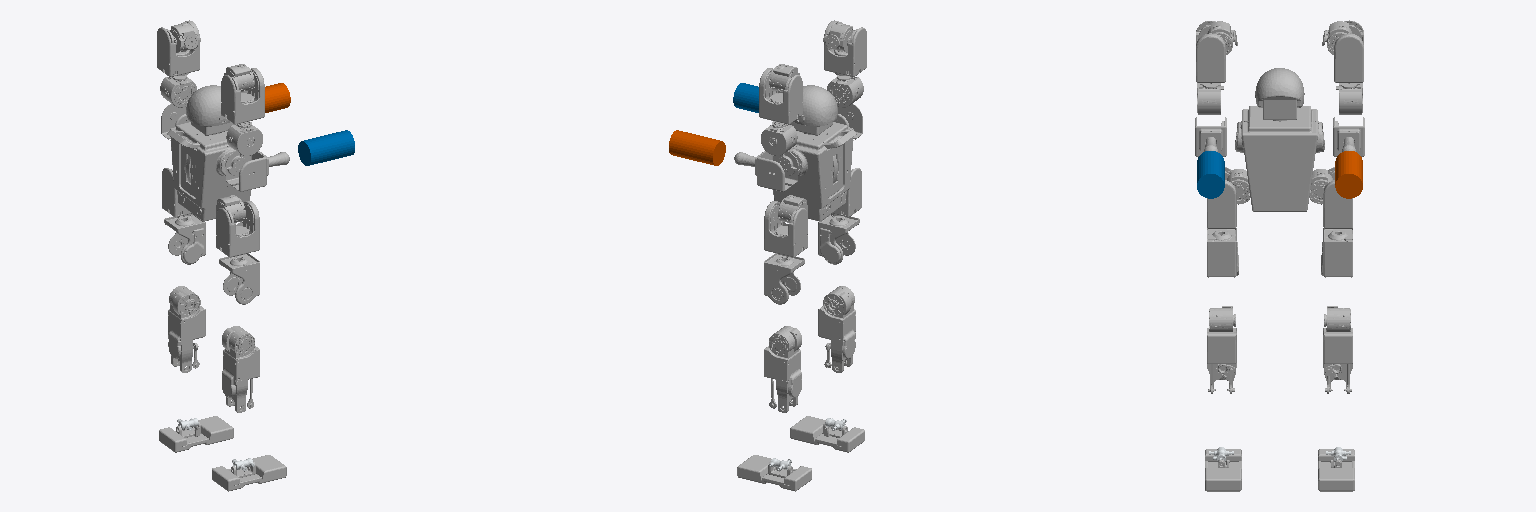
--- What the picture shows (computed from the rendered views, not written in the file) ---
The picture shows the robot from 3 angles, left to right: view 1: azimuth 30°, elevation 25°; view 2: azimuth 150°, elevation 25°; view 3: azimuth 270°, elevation 25°; orthographic projection.
Robot: lus2 — 29 links, 28 joints (21 revolute, 7 fixed); root link pelvis; default pose: all joints at 0.
Links seen in each view (by area): view 1: torso_link, right_knee_link, left_knee_link, right_hip_roll_link, right_shoulder_roll_link, right_elbow_link, left_ankle_roll_link, right_ankle_roll_link, right_hip_yaw_link, left_hip_yaw_link, left_shoulder_roll_link, right_wrist_roll_link (+6 smaller); view 2: torso_link, left_knee_link, right_knee_link, left_hip_roll_link, left_shoulder_roll_link, left_elbow_link, right_ankle_roll_link, left_ankle_roll_link, left_hip_yaw_link, right_hip_yaw_link, right_shoulder_roll_link, left_wrist_roll_link (+6 smaller); view 3: torso_link, left_knee_link, right_knee_link, left_shoulder_roll_link, right_shoulder_roll_link, right_hip_yaw_link, left_hip_yaw_link, right_ankle_roll_link, left_ankle_roll_link, left_wrist_roll_link, right_wrist_roll_link, left_hip_roll_link (+5 smaller).
Boxes of the visible links, x1,y1,x2,y2 form: torso_link: [167, 85, 250, 221]; right_knee_link: [222, 326, 259, 412]; left_knee_link: [168, 286, 205, 372]; right_hip_roll_link: [216, 201, 259, 257]; right_shoulder_roll_link: [221, 68, 264, 124]; right_elbow_link: [226, 151, 289, 191]; left_ankle_roll_link: [159, 416, 233, 452]; right_ankle_roll_link: [212, 455, 286, 491]; right_hip_yaw_link: [219, 253, 259, 304]; left_hip_yaw_link: [164, 214, 205, 264]; left_shoulder_roll_link: [157, 20, 199, 76]; right_wrist_roll_link: [298, 130, 354, 165]; torso_link: [773, 85, 856, 221]; left_knee_link: [764, 326, 801, 412]; right_knee_link: [818, 286, 855, 372]; left_hip_roll_link: [764, 201, 807, 257]; left_shoulder_roll_link: [759, 68, 802, 124]; left_elbow_link: [734, 151, 797, 191]; right_ankle_roll_link: [790, 416, 864, 452]; left_ankle_roll_link: [737, 455, 811, 491]; left_hip_yaw_link: [764, 253, 804, 304]; right_hip_yaw_link: [818, 214, 859, 264]; right_shoulder_roll_link: [824, 20, 866, 76]; left_wrist_roll_link: [669, 130, 725, 165]; torso_link: [1235, 68, 1324, 211]; left_knee_link: [1323, 306, 1352, 393]; right_knee_link: [1207, 306, 1236, 393]; left_shoulder_roll_link: [1334, 20, 1363, 82]; right_shoulder_roll_link: [1196, 21, 1225, 82]; right_hip_yaw_link: [1207, 228, 1238, 277]; left_hip_yaw_link: [1321, 228, 1352, 277]; right_ankle_roll_link: [1205, 449, 1241, 491]; left_ankle_roll_link: [1318, 449, 1354, 491]; left_wrist_roll_link: [1335, 151, 1362, 198]; right_wrist_roll_link: [1197, 151, 1224, 198]; left_hip_roll_link: [1323, 167, 1352, 228].
Bounding box of the posed robot: 0.4819 × 0.4659 × 1.35 m (x, y, z).
Meshes: 29 distinct files referenced, 21 mesh visuals loaded (21 binary STL); not drawn: 8 (reference not matched to a file when rendering).

robot.urdf — lus2:
<?xml version="1.0" encoding="utf-8"?>
<!-- This URDF was automatically created by SolidWorks to URDF Exporter! Originally created by Stephen Brawner ([email redacted]) 
     Commit Version: 1.6.0-4-g7f85cfe  Build Version: 1.6.7995.38578
     For more information, please see http://wiki.ros.org/sw_urdf_exporter -->
<robot name="lus2">
  <mujoco>
        <compiler meshdir="../meshes" discardvisual="false" />
  </mujoco>
  
  <!-- <link name="base">
    <inertial>
      <origin xyz="0 0 0" rpy="0 0 0" />
      <mass value="0.0001" />
      <inertia
        ixx="0.0000000"
        ixy="0.0000000"
        ixz="0.0000000"
        iyy="0.0000000"
        iyz="0.0000000"
        izz="0.0000000" />
    </inertial>
    <visual>
      <origin xyz="0 0 0" rpy="0 0 0" />
      <geometry>
        <box size = "0.001 0.001 0.001"/>
      </geometry>
      <material name="a">
        <color rgba="0.752941176470588 0.752941176470588 0.752941176470588 1" />
      </material>
    </visual>
    <collision>
      <origin xyz="0 0 0" rpy="0 0 0" />
      <geometry>
        <box size = "0.001 0.001 0.001"/>
      </geometry>
    </collision>
  </link>

  <joint name="floating_base_joint" type="fixed">
    <origin xyz="0 0 0" rpy="0 0 0" />
    <parent link="base" />
    <child link="pelvis" />
  </joint> -->

  <link name="pelvis">
    <inertial>
      <origin xyz="-3.1659855E-03  0.0000000 -0.0930236E-01" rpy="0 0 0" />
      <mass value="6.7964049" />
      <inertia
        ixx="3.9641975E-02"
        ixy="0.0000000"
        ixz="1.2568204E-03"
        iyy="3.5762219E-02"
        iyz="0.0000000"
        izz="2.2011165E-02" />
    </inertial>
    <visual>
      <origin xyz="0 0 0.1" rpy="0 0 0" />
      <geometry>
        <mesh filename="../meshes/pelvis.STL" />
      </geometry>
      <material name="a">
        <color rgba="0.752941176470588 0.752941176470588 0.752941176470588 1" />
      </material>
    </visual>
    <!-- <collision>
      <origin xyz="0 0 0" rpy="0 0 0" />
      <geometry>
        <mesh filename="../meshes/pelvis.STL" />
      </geometry>
    </collision> -->
    <collision>
      <origin xyz="0 0 0.0" rpy="0 0 0" />
      <geometry>
        <cylinder radius="0.0572" length="0.1883" />
      </geometry>
    </collision>
  </link>

  <link name="left_hip_pitch_link">
    <inertial>
      <origin xyz="-2.0168256E-02  8.2216101E-02  0.0000000" rpy="0 0 0" />
      <mass value="2.4277335" />
      <inertia
        ixx="6.1432167E-03"
        ixy="4.8775061E-04"
        ixz="0.0000000"
        iyy="3.6201357E-03"
        iyz="0.0000000"
        izz="5.1618570E-03" />
    </inertial>
    <visual>
      <origin xyz="0 0 0.0" rpy="0 0 0" />
      <geometry>
        <mesh filename="../meshes/left_hip_pitch_link.STL" />
      </geometry>
      <material name="a">
        <color rgba="0.752941176470588 0.752941176470588 0.752941176470588 1" />
      </material>
    </visual>
    <!-- <collision>
      <origin xyz="0 0 0" rpy="0 0 0" />
      <geometry>
        <mesh filename="../meshes/left_hip_pitch_link.STL" />
      </geometry>
    </collision> -->
    <collision>
      <origin xyz="0 0.01 0" rpy="1.57 0 0" />
      <geometry>
        <cylinder radius="0.045" length="0.0234" />
      </geometry>
    </collision>
  </link>

  <joint name="left_hip_pitch_joint" type="revolute">
    <origin xyz="0 0.068 -0.056" rpy="0 0 0" />
    <parent link="pelvis" />
    <child link="left_hip_pitch_link" />
    <axis xyz="0 1 0" />
    <limit lower="-1.5" upper="1.5" effort="300" velocity="12" />
  </joint>

  <link name="left_hip_roll_link">
    <inertial>
      <origin xyz="-2.3116200E-03 -3.6364046E-04 -8.1422005E-02" rpy="0 0 0" />
      <mass value="3.1551632" />
      <inertia
        ixx="1.2134241E-02"
        ixy="-4.1927788E-05"
        ixz="-1.9137034E-03"
        iyy="1.1479866E-02"
        iyz="-1.2177975E-04"
        izz="7.1752202E-03" />
    </inertial>
    <visual>
      <origin xyz="0 0 0" rpy="0 0 0" />
      <geometry>
        <mesh filename="../meshes/left_hip_roll_link.STL" />
      </geometry>
      <material name="a">
        <color rgba="0.752941176470588 0.752941176470588 0.752941176470588 1" />
      </material>
    </visual>
    <!-- <collision>
      <origin xyz="0 0 0" rpy="0 0 0" />
      <geometry>
        <mesh filename="../meshes/left_hip_roll_link.STL" />
      </geometry>
    </collision> -->
    <collision>
      <origin xyz="-0.01 0 0" rpy="0 1.57 0" />
      <geometry>
        <cylinder radius="0.065" length="0.13" />
      </geometry>
    </collision>
  </link>

  <joint name="left_hip_roll_joint" type="revolute">
    <origin xyz="0 0.092 0" rpy="0 0 0" />
    <parent link="left_hip_pitch_link" />
    <child link="left_hip_roll_link" />
    <axis xyz="1 0 0" />
    <limit lower="-0.25" upper="2.8" effort="300" velocity="12" />
  </joint>

  <link name="left_hip_yaw_link">
    <inertial>
      <origin xyz="6.4280485E-03 -3.5846370E-03 -1.8449587E-01" rpy="0 0 0" />
      <mass value="3.3522325" />
      <inertia
        ixx="3.8105084E-02"
        ixy="-7.7153373E-05"
        ixz="-7.3176284E-04"
        iyy="3.9597910E-02"
        iyz="-9.0739735E-04"
        izz="7.1960830E-03" />
    </inertial>
    <visual>
      <origin xyz="0 0 0" rpy="0 0 0" />
      <geometry>
        <mesh filename="../meshes/left_hip_yaw_link.STL" />
      </geometry>
      <material name="a">
        <color rgba="0.752941176470588 0.752941176470588 0.752941176470588 1" />
      </material>
    </visual>
    <!-- <collision>
      <origin xyz="0 0 0" rpy="0 0 0" />
      <geometry>
        <mesh filename="../meshes/left_hip_yaw_link.STL" />
      </geometry>
    </collision> -->
    <collision>
      <origin xyz="0 0 0" rpy="0 0 0" />
      <geometry>
        <cylinder radius="0.0708" length="0.142" />
      </geometry>
    </collision>
  </link>

  <joint name="left_hip_yaw_joint" type="revolute">
    <origin xyz="0 0 -0.1395" rpy="0 0 0" />
    <parent link="left_hip_roll_link" />
    <child link="left_hip_yaw_link" />
    <axis xyz="0 0 1" />
    <limit lower="-1.2" upper="2.6" effort="300" velocity="12" />
  </joint>

  <link name="left_knee_link">
    <inertial>
      <origin xyz="9.7804057e-03 -1.2159820e-03 -1.1000733e-01" rpy="0 0 0" />
      <mass value="5.3828222" />
      <inertia
        ixx="7.1014736e-02"
        ixy="-6.3321397e-05"
        ixz="9.4868042e-04"
        iyy="7.2059618e-02"
        iyz="1.0601703e-03"
        izz="8.1731788e-03" />
    </inertial>
    <visual>
      <origin xyz="0 0 0" rpy="0 0 0" />
      <geometry>
        <mesh filename="../meshes/left_knee_link.STL" />
      </geometry>
      <material name="a">
        <color rgba="0.752941176470588 0.752941176470588 0.752941176470588 1" />
      </material>
    </visual>
    <!-- <collision>
      <origin xyz="0 0 0" rpy="0 0 0" />
      <geometry>
        <mesh filename="../meshes/left_knee_link.STL" />
      </geometry>
    </collision> -->
    <collision>
      <origin xyz="0 0 -0.13" rpy="0 0 0" />
      <geometry>
        <box size = "0.109 0.095 0.278"/>
      </geometry>
    </collision>
  </link>

  <joint name="left_knee_joint" type="revolute">
    <origin xyz="0 0 -0.26" rpy="0 0 0" />
    <parent link="left_hip_yaw_link" />
    <child link="left_knee_link" />
    <axis xyz="0 1 0" />
    <limit lower="0.0" upper="2.27" effort="300" velocity="12" />
  </joint>

  <link name="left_ankle_pitch_link">
    <inertial>
      <origin xyz="-3.1002626e-04  1.1061714e-05 -4.2515953e-03" rpy="0 0 0" />
      <mass value="1.6375855e-01" />
      <inertia
        ixx="5.5690573e-05"
        ixy="-2.3322493e-10"
        ixz="-3.1117387e-07"
        iyy="2.3118959e-05"
        iyz="4.0748259e-10"
        izz="5.5144716e-05" />
    </inertial>
    <visual>
      <origin xyz="0 0 0" rpy="0 0 0" />
      <geometry>
        <mesh filename="../meshes/left_ankle_pitch_link.STL" />
      </geometry>
      <material name="a">
        <color rgba="0.898039215686275 0.917647058823529 0.929411764705882 1" />
      </material>
    </visual>
    <!-- <collision>
      <origin xyz="0 0 0" rpy="0 0 0" />
      <geometry>
        <mesh filename="../meshes/left_ankle_pitch_link.STL" />
      </geometry>
    </collision> -->
    <collision>
      <origin xyz="0 0 0" rpy="1.57 0 0" />
      <geometry>
        <cylinder radius="0.009" length="0.032" />
      </geometry>
    </collision>
  </link>

  <joint name="left_ankle_pitch_joint" type="revolute">
    <origin xyz="0 0 -0.4" rpy="0 0 0" />
    <parent link="left_knee_link" />
    <child link="left_ankle_pitch_link" />
    <axis xyz="0 1 0" />
    <limit lower="-1.0" upper="0.43" effort="100" velocity="14" />
  </joint>

  <link name="left_ankle_roll_link">
    <inertial>
      <origin xyz="1.7804206e-02  0.0000000e+00 -2.2944985e-02" rpy="0 0 0" />
      <mass value="3.2840177e-01" />
      <inertia
        ixx="2.3276192e-04"
        ixy="0.0000000"
        ixz="9.9000753e-05"
        iyy="1.3849144e-03"
        iyz="0.0000000"
        izz="1.4703900e-03" />
    </inertial>
    <visual>
      <origin xyz="0 0 0" rpy="0 0 0" />
      <geometry>
        <mesh filename="../meshes/left_ankle_roll_link.STL" />
      </geometry>
      <material name="a">
        <color rgba="0.752941176470588 0.752941176470588 0.752941176470588 1" />
      </material>
    </visual>
    <!-- <collision>
      <origin xyz="0 0 0" rpy="0 0 0" />
      <geometry>
        <mesh filename="../meshes/left_ankle_roll_link.STL" />
      </geometry>
    </collision> -->


    <collision>
      <origin xyz="0.025 0 -0.03385" rpy="0 0 0" />
      <geometry>
        <box size = "0.235 0.073 0.0143"/>
      </geometry>
    </collision>

   <collision>
      <origin xyz="-0.085 0.035 -0.04" rpy="0 0 0"/>
      <geometry>
        <sphere radius="0.005"/>
      </geometry>
    </collision>
    <collision>
      <origin xyz="-0.085 -0.035 -0.04" rpy="0 0 0"/>
      <geometry>
        <sphere radius="0.005"/>
      </geometry>
    </collision>
    <collision>
      <origin xyz="0.135 0.035 -0.04" rpy="0 0 0"/>
      <geometry>
        <sphere radius="0.005"/>
      </geometry>
    </collision>
    <collision>
      <origin xyz="0.135 -0.035 -0.04" rpy="0 0 0"/>
      <geometry>
        <sphere radius="0.005"/>
      </geometry>
    </collision>
    <collision>
      <origin xyz="0.05 -0.045 -0.04" rpy="0 0 0"/>
      <geometry>
        <sphere radius="0.005"/>
      </geometry>
    </collision>
    <collision>
      <origin xyz="0.05 0.045 -0.04" rpy="0 0 0"/>
      <geometry>
        <sphere radius="0.005"/>
      </geometry>
    </collision>
    <collision>
      <origin xyz="0.145 -0.0 -0.04" rpy="0 0 0"/>
      <geometry>
        <sphere radius="0.005"/>
      </geometry>
    </collision>
    <collision>
      <origin xyz="-0.09 -0.0 -0.04" rpy="0 0 0"/>
      <geometry>
        <sphere radius="0.005"/>
      </geometry>
    </collision>
 

  </link>

  <joint name="left_ankle_roll_joint" type="revolute">
    <origin xyz="0 0 -0.01" rpy="0 0 0" />
    <parent link="left_ankle_pitch_link" />
    <child link="left_ankle_roll_link" />
    <axis xyz="1 0 0" />
    <limit lower="-0.43" upper="0.43" effort="100" velocity="14" />
  </joint>

  <link name="right_hip_pitch_link">
    <inertial>
      <origin xyz="-2.0168256E-02 -8.2216101E-02  0.0000000" rpy="0 0 0" />
      <mass value="2.4277335" />
      <inertia
        ixx="6.1432167E-03"
        ixy="-4.8775061E-04"
        ixz="0.0000000"
        iyy="3.6201357E-03"
        iyz="0.0000000"
        izz="5.1618570E-03" />
    </inertial>
    <visual>
      <origin xyz="0 0 0" rpy="0 0 0" />
      <geometry>
        <mesh filename="../meshes/right_hip_pitch_link.STL" />
      </geometry>
      <material name="a">
        <color rgba="0.752941176470588 0.752941176470588 0.752941176470588 1" />
      </material>
    </visual>
    <!-- <collision>
      <origin xyz="0 0 0"  rpy="0 0 0" />
      <geometry>
        <mesh filename="../meshes/right_hip_pitch_link.STL" />
      </geometry>
    </collision> -->
    <collision>
      <origin xyz="0 -0.01 0" rpy="1.57 0 0" />
      <geometry>
        <cylinder radius="0.045" length="0.0234" />
      </geometry>
    </collision>
  </link>

  <joint name="right_hip_pitch_joint" type="revolute">
    <origin xyz="0 -0.068 -0.056" rpy="0 0 0" />
    <parent link="pelvis" />
    <child link="right_hip_pitch_link" />
    <axis xyz="0 1 0" />
    <limit lower="-1.5" upper="1.5" effort="300" velocity="12" />
  </joint>

  <link name="right_hip_roll_link">
    <inertial>
      <origin xyz="-2.3116409E-03  3.6367554E-04 -8.1422055E-02" rpy="0 0 0" />
      <mass value="3.1551628" />
      <inertia
        ixx="1.2134227E-02"
        ixy="4.1929406E-05"
        ixz="-1.9137018E-03"
        iyy="1.1479853E-02"
        iyz="1.2177538E-04"
        izz="7.1752213E-03" />
    </inertial>
    <visual>
      <origin xyz="0 0 0" rpy="0 0 0" />
      <geometry>
        <mesh filename="../meshes/right_hip_roll_link.STL" />
      </geometry>
      <material name="a">
        <color rgba="0.752941176470588 0.752941176470588 0.752941176470588 1" />
      </material>
    </visual>
    <!-- <collision>
      <origin xyz="0 0 0" rpy="0 0 0" />
      <geometry>
        <mesh filename="../meshes/right_hip_roll_link.STL" />
      </geometry>
    </collision> -->
    <collision>
      <origin xyz="-0.01 0 0" rpy="0 1.57 0" />
      <geometry>
        <cylinder radius="0.065" length="0.13" />
      </geometry>
    </collision>
  </link>

  <joint name="right_hip_roll_joint" type="revolute">
    <origin  xyz="0 -0.092 0" rpy="0 0 0" />
    <parent link="right_hip_pitch_link" />
    <child link="right_hip_roll_link" />
    <axis xyz="1 0 0" />
    <limit lower="-2.8" upper="0.25" effort="300" velocity="12" />
  </joint>

  <link name="right_hip_yaw_link">
    <inertial>
      <origin xyz="6.4280485E-03  3.5846369E-03 -1.8449587E-01" rpy="0 0 0" />
      <mass value="3.3522326" />
      <inertia
        ixx="3.8105084E-02"
        ixy="7.7153371E-05"
        ixz="-7.3176284E-04"
        iyy="3.9597910E-02"
        iyz="9.0739735E-04"
        izz="7.1960830E-03" />
    </inertial>
    <visual>
      <origin xyz="0 0 0" rpy="0 0 0" />
      <geometry>
        <mesh filename="../meshes/right_hip_yaw_link.STL" />
      </geometry>
      <material name="a">
        <color rgba="0.752941176470588 0.752941176470588 0.752941176470588 1" />
      </material>
    </visual>
    <!-- <collision>
      <origin xyz="0 0 0" rpy="0 0 0" />
      <geometry>
        <mesh filename="../meshes/right_hip_yaw_link.STL" />
      </geometry>
    </collision> -->
    <collision>
      <origin xyz="0 0 0" rpy="0 0 0" />
      <geometry>
        <cylinder radius="0.0708" length="0.142" />
      </geometry>
    </collision>
  </link>

  <joint name="right_hip_yaw_joint" type="revolute">
    <origin xyz="0 0 -0.1395" rpy="0 0 0" />
    <parent link="right_hip_roll_link" />
    <child link="right_hip_yaw_link" />
    <axis xyz="0 0 1" />
    <limit lower="-2.6" upper="1.2" effort="300" velocity="12" />
  </joint>

  <link name="right_knee_link">
    <inertial>
      <origin xyz="9.7804052e-03  1.2159799e-03 -1.1000734e-01" rpy="0 0 0" />
      <mass value="5.3828227" />
      <inertia
        ixx="7.1014747e-02"
        ixy="6.3321335e-05"
        ixz="9.4868006e-04"
        iyy="7.2059629e-02"
        iyz="-1.0601720e-03"
        izz="8.1731791e-03" />
    </inertial>
    <visual>
      <origin xyz="0 0 0" rpy="0 0 0" />
      <geometry>
        <mesh filename="../meshes/right_knee_link.STL" />
      </geometry>
      <material name="a">
        <color rgba="0.752941176470588 0.752941176470588 0.752941176470588 1" />
      </material>
    </visual>
    <!-- <collision>
      <origin xyz="0 0 0" rpy="0 0 0" />
      <geometry>
        <mesh filename="../meshes/right_knee_link.STL" />
      </geometry>
    </collision> -->
    <collision>
      <origin xyz="0 0 -0.13" rpy="0 0 0" />
      <geometry>
        <box size = "0.109 0.095 0.278"/>
      </geometry>
    </collision>
  </link>

  <joint name="right_knee_joint" type="revolute">
    <origin xyz="0 0 -0.26" rpy="0 0 0" />
    <parent link="right_hip_yaw_link" />
    <child link="right_knee_link" />
    <axis xyz="0 1 0" />
    <limit lower="0.0" upper="2.27" effort="300" velocity="12" />
  </joint>

  <link name="right_ankle_pitch_link">
    <inertial>
      <origin xyz="-3.1002626e-04  1.1061714e-05 -4.2515953e-03" rpy="0 0 0" />
      <mass value="1.6375855e-01" />
      <inertia
        ixx="5.5690573e-05"
        ixy="-2.3322493e-10"
        ixz="-3.1117387e-07"
        iyy="2.3118959e-05"
        iyz="4.0748259e-10"
        izz="5.5144716e-05" />
    </inertial>
    <visual>
      <origin xyz="0 0 0" rpy="0 0 0" />
      <geometry>
        <mesh filename="../meshes/right_ankle_pitch_link.STL" />
      </geometry>
      <material name="a">
        <color rgba="0.898039215686275 0.917647058823529 0.929411764705882 1" />
      </material>
    </visual>
    <!-- <collision>
      <origin xyz="0 0 0" rpy="0 0 0" />
      <geometry>
        <mesh filename="../meshes/right_ankle_pitch_link.STL" />
      </geometry>
    </collision> -->
    <collision>
      <origin xyz="0 0 0" rpy="1.57 0 0" />
      <geometry>
        <cylinder radius="0.009" length="0.032" />
      </geometry>
    </collision>
  </link>

  <joint name="right_ankle_pitch_joint" type="revolute">
    <origin xyz="0 0 -0.4" rpy="0 0 0" />
    <parent link="right_knee_link" />
    <child link="right_ankle_pitch_link" />
    <axis xyz="0 1 0" />
    <limit lower="-1.0" upper="0.43" effort="100" velocity="14" />
  </joint>

  <link name="right_ankle_roll_link">
    <inertial>
      <origin xyz="1.7804206e-02  0.0000000e+00 -2.2944985e-02" rpy="0 0 0" />
      <mass value="3.2840177e-01" />
      <inertia
        ixx="2.3276192e-04"
        ixy="0.0000000"
        ixz="9.9000753e-05"
        iyy="1.3849144e-03"
        iyz="0.0000000"
        izz="1.4703900e-03" />
    </inertial>
    <visual>
      <origin xyz="0 0 0" rpy="0 0 0" />
      <geometry>
        <mesh filename="../meshes/right_ankle_roll_link.STL" />
      </geometry>
      <material name="a">
        <color rgba="0.752941176470588 0.752941176470588 0.752941176470588 1" />
      </material>
    </visual>
    <!-- <collision>
      <origin xyz="0 0 0" rpy="0 0 0" />
      <geometry>
        <mesh filename="../meshes/right_ankle_roll_link.STL" />
      </geometry>
    </collision> -->
    
    <collision>
      <origin xyz="0.025 0 -0.03385" rpy="0 0 0" />
      <geometry>
        <box size = "0.235 0.073 0.0143"/>
      </geometry>
    </collision>
    


   <collision>
      <origin xyz="-0.085 0.035 -0.04" rpy="0 0 0"/>
      <geometry>
        <sphere radius="0.005"/>
      </geometry>
    </collision>
    <collision>
      <origin xyz="-0.085 -0.035 -0.04" rpy="0 0 0"/>
      <geometry>
        <sphere radius="0.005"/>
      </geometry>
    </collision>
    <collision>
      <origin xyz="0.135 0.035 -0.04" rpy="0 0 0"/>
      <geometry>
        <sphere radius="0.005"/>
      </geometry>
    </collision>
    <collision>
      <origin xyz="0.135 -0.035 -0.04" rpy="0 0 0"/>
      <geometry>
        <sphere radius="0.005"/>
      </geometry>
    </collision>
    <collision>
      <origin xyz="0.05 -0.045 -0.04" rpy="0 0 0"/>
      <geometry>
        <sphere radius="0.005"/>
      </geometry>
    </collision>
    <collision>
      <origin xyz="0.05 0.045 -0.04" rpy="0 0 0"/>
      <geometry>
        <sphere radius="0.005"/>
      </geometry>
    </collision>
    <collision>
      <origin xyz="0.145 -0.0 -0.04" rpy="0 0 0"/>
      <geometry>
        <sphere radius="0.005"/>
      </geometry>
    </collision>
    <collision>
      <origin xyz="-0.09 -0.0 -0.04" rpy="0 0 0"/>
      <geometry>
        <sphere radius="0.005"/>
      </geometry>
    </collision>

  </link>

  <joint name="right_ankle_roll_joint" type="revolute">
    <origin xyz="0 0 -0.01" rpy="0 0 0" />
    <parent link="right_ankle_pitch_link" />
    <child link="right_ankle_roll_link" />
    <axis xyz="1 0 0" />
    <limit lower="-0.43" upper="0.43" effort="100" velocity="14" />
  </joint>

  <link name="torso_link">
    <inertial>
      <origin xyz="-2.3606484E-03  2.8289136E-04  2.3074545E-01" rpy="0 0 0" />
      <mass value="1.0563174E+01" />
      <inertia
        ixx="1.3744844E-01"
        ixy="1.3568744E-04"
        ixz="5.7196351E-03"
        iyy="1.1331419E-01"
        iyz="-4.6372000E-04"
        izz="6.5891007E-02" />
    </inertial>
    <visual>
      <origin xyz="0 0 0" rpy="0 0 0" />
      <geometry>
        <mesh filename="../meshes/torso_link.STL" />
      </geometry>
      <material name="a">
        <color rgba="0.752941176470588 0.752941176470588 0.752941176470588 1" />
      </material>
    </visual>
    <!-- <collision>
      <origin xyz="0 0 0" rpy="0 0 0" />
      <geometry>
        <mesh filename="../meshes/torso_link.STL" />
      </geometry>
    </collision> -->
    <collision>
      <origin xyz="0.0065 0.0 0.21" rpy="0 0 0" />
      <geometry>
        <box size = "0.205 0.178 0.246"/>
      </geometry>
    </collision>
  </link>

  <joint name="torso_joint" type="revolute">
    <origin xyz="0 0 0.1" rpy="0 0 0" />
    <parent link="pelvis" />
    <child link="torso_link" />
    <axis xyz="0 0 1" />
    <limit lower="-3" upper="3" effort="300" velocity="12" />
  </joint>

  <link name="head_link">
    <inertial>
      <origin xyz="0.00822737744778477 -0.000198850473705812 0.107120349130616" rpy="0 0 0" />
      <mass value="1.02775179782002" />
      <inertia
        ixx="0.00169703133506373"
        ixy="2.89967965428031E-07"
        ixz="0.000184215223504519"
        iyy="0.00191732132579063"
        iyz="1.69965812692335E-07"
        izz="0.00219567889747987" />
    </inertial>
    <visual>
      <origin xyz="0 0 0" rpy="0 0 0" />
      <geometry>
        <mesh filename="../meshes/head_link.STL" />
      </geometry>
      <material name="a">
        <color rgba="0.752941176470588 0.752941176470588 0.752941176470588 1" />
      </material>
    </visual>
    <!-- <collision>
      <origin xyz="0 0 0" rpy="0 0 0" />
      <geometry>
        <mesh filename="../meshes/head_link.STL" />
      </geometry>
    </collision> -->
    <collision>
      <origin xyz="0 0 0.11" rpy="0 0 0" />
      <geometry>
        <sphere radius="0.08" />
      </geometry>
    </collision>
  </link>

  <joint name="head_joint" type="fixed">
    <origin xyz="0 0 0.3875" rpy="0 0 0" />
    <parent link="torso_link" />
    <child link="head_link" />
    <axis xyz="0 0 1" />
    <limit lower="-1.3" upper="1.3" effort="17" velocity="87" />
  </joint>

  <link name="left_shoulder_pitch_link">
    <inertial>
      <origin xyz="-0.0254613668140268 0.0534577956198457 -5.75838734862E-07" rpy="0 0 0" />
      <mass value="0.173114536540602" />
      <inertia
        ixx="0.000191687053531479"
        ixy="2.42906935657343E-05"
        ixz="1.77380081012811E-09"
        iyy="9.66644010132902E-05"
        iyz="-2.75063833372514E-10"
        izz="0.000152138542652527" />
    </inertial>
    <visual>
      <origin xyz="0 0 0" rpy="0 0 0" />
      <geometry>
        <mesh filename="../meshes/left_shoulder_pitch_link.STL" />
      </geometry>
      <material name="a">
        <color rgba="0.752941176470588 0.752941176470588 0.752941176470588 1" />
      </material>
    </visual>
    <!-- <collision>
      <origin xyz="0 0 0" rpy="0 0 0" />
      <geometry>
        <mesh filename="../meshes/left_shoulder_pitch_link.STL" />
      </geometry>
    </collision> -->
    <collision>
      <origin xyz="0 0.01 0" rpy="1.57 0 0" />
      <geometry>
        <cylinder radius="0.0244" length="0.018" />
      </geometry>
    </collision>
  </link>

  <joint name="left_shoulder_pitch_joint" type="revolute">
    <origin xyz="0 0.12095 0.29712" rpy="-0.17453 0 0" />
    <parent link="torso_link" />
    <child link="left_shoulder_pitch_link" />
    <axis xyz="0 1 0" />
    <limit lower="-3" upper="3" effort="100" velocity="14" />
  </joint>

  <link name="left_shoulder_roll_link">
    <inertial>
      <origin xyz="0.00112285890248779 -4.52208530434817E-05 -0.0679750283894044" rpy="0 0 0" />
      <mass value="0.364744656002893" />
      <inertia
        ixx="0.000923518668388584"
        ixy="5.04296697925665E-07"
        ixz="2.25167739325528E-05"
        iyy="0.000788400342395255"
        iyz="1.36824863894953E-06"
        izz="0.000366315545465091" />
    </inertial>
    <visual>
      <origin xyz="0 0 0" rpy="0 0 0" />
      <geometry>
        <mesh filename="../meshes/left_shoulder_roll_link.STL" />
      </geometry>
      <material name="a">
        <color rgba="0.752941176470588 0.752941176470588 0.752941176470588 1" />
      </material>
    </visual>
    <!-- <collision>
      <origin xyz="0 0 0" rpy="0 0 0" />
      <geometry>
        <mesh filename="../meshes/left_shoulder_roll_link.STL" />
      </geometry>
    </collision> -->
    <collision>
      <origin xyz="0 0 0" rpy="0 1.57 0" />
      <geometry>
        <cylinder radius="0.0447" length="0.1" />
      </geometry>
    </collision>
  </link>

  <joint name="left_shoulder_roll_joint" type="revolute">
    <origin xyz="0 0.0695 0" rpy="0.17453 0 0" />
    <parent link="left_shoulder_pitch_link" />
    <child link="left_shoulder_roll_link" />
    <axis xyz="1 0 0" />
    <limit lower="-0.12" upper="2.3" effort="100" velocity="14" />
  </joint>

  <link name="left_shoulder_yaw_link">
    <inertial>
      <origin xyz="-0.00081064 -0.00072673 -0.10583686" rpy="0 0 0"/>
      <mass value="1.12432170"/>
      <inertia
        ixx="0.00383455" 
        ixy="-0.00000298" 
        ixz="0.00002579" 
        iyy="0.00391958" 
        iyz="-0.00002774" 
        izz="0.00072349"/>
    </inertial>
    <visual>
      <origin xyz="0 0 0" rpy="0 0 0" />
      <geometry>
        <mesh filename="../meshes/left_shoulder_yaw_link.STL" />
      </geometry>
      <material name="a">
        <color rgba="0.752941176470588 0.752941176470588 0.752941176470588 1" />
      </material>
    </visual>
    <!-- <collision>
      <origin xyz="0 0 0" rpy="0 0 0" />
      <geometry>
        <mesh filename="../meshes/left_shoulder_yaw_link.STL" />
      </geometry>
    </collision> -->
    <collision>
      <origin xyz="0 0 0" rpy="0 0 0" />
      <geometry>
        <cylinder radius="0.03968" length="0.14" />
      </geometry>
    </collision>
  </link>

  <joint name="left_shoulder_yaw_joint" type="revolute">
    <origin xyz="0 0 -0.13" rpy="0 0 0" />
    <parent link="left_shoulder_roll_link" />
    <child link="left_shoulder_yaw_link" />
    <axis xyz="0 0 1" />
    <limit lower="-1.9" upper="1.9" effort="100" velocity="14" />
  </joint>

  <link name="left_elbow_link">
    <inertial>
      <origin xyz="-0.00152308 -0.00155026 -0.06686462" rpy="0 0 0"/>
      <mass value="0.59309890"/>
      <inertia
        ixx="0.00083688" 
        ixy="0.00000152" 
        ixz="-0.00004431" 
        iyy="0.00081031" 
        iyz="-0.00003429" 
        izz="0.00047704"/>
    </inertial>
    <visual>
      <origin xyz="0 0 0" rpy="0 0 0" />
      <geometry>
        <mesh filename="../meshes/left_elbow_link.STL" />
      </geometry>
      <material name="a">
        <color rgba="0.752941176470588 0.752941176470588 0.752941176470588 1" />
      </material>
    </visual>
    <!-- <collision>
      <origin xyz="0 0 0" rpy="0 0 0" />
      <geometry>
        <mesh filename="../meshes/left_elbow_link.STL" />
      </geometry>
    </collision> -->
    <collision>
      <origin xyz="0 0 0" rpy="1.57 0 0" />
      <geometry>
        <cylinder radius="0.043" length="0.079" />
      </geometry>
    </collision>
  </link>

  <joint name="left_elbow_joint" type="revolute">
    <origin xyz="0 0 -0.14" rpy="0 -1.57 0" />
    <parent link="left_shoulder_yaw_link" />
    <child link="left_elbow_link" />
    <axis xyz="0 1 0" />
    <limit lower="-0.83" upper="1.57" effort="100" velocity="14" />
  </joint>

  <link name="left_wrist_yaw_link">
    <inertial>
      <origin xyz="0.00020795 -0.00477305 -0.06596393" rpy="0 0 0"/>
      <mass value="0.36396026"/>
      <inertia
        ixx="0.00013304 " 
        ixy="0.00000160" 
        ixz="0.00000051" 
        iyy="0.00019202" 
        iyz="0.00000053" 
        izz="0.00013151"/>
    </inertial>
    <visual>
      <origin xyz="0 0 0" rpy="0 0 0" />
      <geometry>
        <mesh filename="../meshes/left_wrist_yaw_link.STL" />
      </geometry>
      <material name="a">
        <color rgba="0.752941176470588 0.752941176470588 0.752941176470588 1" />
      </material>
    </visual>
    <!-- <collision>
      <origin xyz="0 0 0" rpy="0 0 0" />
      <geometry>
        <mesh filename="../meshes/left_wrist_yaw_link.STL" />
      </geometry>
    </collision> -->
    <collision>
      <origin xyz="0 0 0.01" rpy="0 0 0" />
      <geometry>
        <cylinder radius="0.035" length="0.07" />
      </geometry>
    </collision>
  </link>

  <joint name="left_wrist_yaw_joint" type="fixed">
    <origin xyz="0 0 -0.0955" rpy="0 0 0" />
    <parent link="left_elbow_link" />
    <child link="left_wrist_yaw_link" />
    <axis xyz="0 0 1" />
    <limit lower="-2.3" upper="2.3" effort="17" velocity="87" />
  </joint>

  <link name="left_wrist_pitch_link">
    <inertial>
      <origin xyz="-0.00480941 -0.00060521 -0.05825035" rpy="0 0 0"/>
      <mass value="0.47109798"/>
      <inertia
        ixx="0.00038629" 
        ixy="-0.00000194" 
        ixz="0.00001573" 
        iyy="0.00031470" 
        iyz="-0.00001188" 
        izz="0.00023291"/>
    </inertial>
    <visual>
      <origin xyz="0 0 0" rpy="0 0 0" />
      <geometry>
        <mesh filename="../meshes/left_wrist_pitch_link.STL" />
      </geometry>
      <material name="a">
        <color rgba="0.752941176470588 0.752941176470588 0.752941176470588 1" />
      </material>
    </visual>
    <!-- <collision>
      <origin xyz="0 0 0" rpy="0 0 0" />
      <geometry>
        <mesh filename="../meshes/left_wrist_pitch_link.STL" />
      </geometry>
    </collision> -->
    <collision>
      <origin xyz="0 0 0.0" rpy="1.57 0 0" />
      <geometry>
        <cylinder radius="0.032" length="0.064" />
      </geometry>
    </collision>
  </link>

  <joint name="left_wrist_pitch_joint" type="fixed">
    <origin xyz="0 0 -0.0645" rpy="0 0 0" />
    <parent link="left_wrist_yaw_link" />
    <child link="left_wrist_pitch_link" />
    <axis xyz="0 1 0" />
    <limit lower="-1.2" upper="1.2" effort="17" velocity="87" />
  </joint>

  <link name="left_wrist_roll_link">
    <inertial>
      <origin xyz="0.01916043 -0.00000117 -0.02394803" rpy="0 0 0" />
      <mass value="0.0380932" />
      <inertia
        ixx="0.00001604"
        ixy="0.00000000"
        ixz="0.00000518"
        iyy="0.00002008"
        iyz="0.00000000"
        izz="0.00000997" />
    </inertial>
    <visual>
      <origin xyz="0 0 0" rpy="0 0 0" />
      <geometry>
        <mesh filename="../meshes/left_wrist_roll_link.STL" />
      </geometry>
      <material name="a">
        <color rgba="0.752941176470588 0.752941176470588 0.752941176470588 1" />
      </material>
    </visual>


    <visual>
      <origin xyz="0.0 0.0 -0.05" rpy="0 0 0" />
      <geometry>
        <cylinder radius="0.038" length="0.15" />
      </geometry>
    </visual>
    <collision>
      <origin xyz="0.0 0.0 -0.05" rpy="0 0 0" />
      <geometry>
        <cylinder radius="0.038" length="0.15" />
      </geometry>
    </collision>


    <!-- <collision>
      <origin xyz="0 0 0" rpy="0 0 0" />
      <geometry>
        <mesh filename="../meshes/left_wrist_roll_link.STL" />
      </geometry>
    </collision> -->
    <collision>
      <origin xyz="0 0 0" rpy="0 1.57 0" />
      <geometry>
        <cylinder radius="0.035" length="0.054" />
      </geometry>
    </collision>
  </link>

  <joint name="left_wrist_roll_joint" type="fixed">
    <origin xyz="0 0 -0.068" rpy="0 0 0" />
    <parent link="left_wrist_pitch_link" />
    <child link="left_wrist_roll_link" />
    <axis xyz="1 0 0" />
    <limit lower="-1.2" upper="1.2" effort="17" velocity="87" />
  </joint>

  <link name="right_shoulder_pitch_link">
    <inertial>
      <origin xyz="-0.0254613737714933 -0.0534578057038241 6.93877064139592E-07" rpy="0 0 0" />
      <mass value="0.173115302786264" />
      <inertia
        ixx="0.00019169099935434"
        ixy="-2.42907083295139E-05"
        ixz="-1.89395390017782E-09"
        iyy="9.66676265958145E-05"
        iyz="-1.26879061150862E-09"
        izz="0.000152139830694985" />
    </inertial>
    <visual>
      <origin xyz="0 0 0" rpy="0 0 0" />
      <geometry>
        <mesh filename="../meshes/right_shoulder_pitch_link.STL" />
      </geometry>
      <material name="a">
        <color rgba="0.752941176470588 0.752941176470588 0.752941176470588 1" />
      </material>
    </visual>
    <!-- <collision>
      <origin xyz="0 0 0" rpy="0 0 0" />
      <geometry>
        <mesh filename="../meshes/right_shoulder_pitch_link.STL" />
      </geometry>
    </collision> -->
    <collision>
      <origin xyz="0 -0.01 0" rpy="1.57 0 0" />
      <geometry>
        <cylinder radius="0.0244" length="0.018" />
      </geometry>
    </collision>
  </link>

  <joint name="right_shoulder_pitch_joint" type="revolute">
    <origin xyz="0 -0.12095 0.29712" rpy="0.17453 0 0" />
    <parent link="torso_link" />
    <child link="right_shoulder_pitch_link" />
    <axis xyz="0 1 0" />
    <limit lower="-3" upper="3" effort="100" velocity="14" />
  </joint>

  <link name="right_shoulder_roll_link">
    <inertial>
      <origin xyz="0.00112483379593095 5.055150124747E-05 -0.0679738389009552" rpy="0 0 0" />
      <mass value="0.364801949403457" />
      <inertia
        ixx="0.000923570336615024"
        ixy="-5.05159888509568E-07"
        ixz="2.25075316131134E-05"
        iyy="0.000788452963484657"
        iyz="-1.36044203403311E-06"
        izz="0.000366326021471561" />
    </inertial>
    <visual>
      <origin xyz="0 0 0" rpy="0 0 0" />
      <geometry>
        <mesh filename="../meshes/right_shoulder_roll_link.STL" />
      </geometry>
      <material name="a">
        <color rgba="0.752941176470588 0.752941176470588 0.752941176470588 1" />
      </material>
    </visual>
    <!-- <collision>
      <origin xyz="0 0 0" rpy="0 0 0" />
      <geometry>
        <mesh filename="../meshes/right_shoulder_roll_link.STL" />
      </geometry>
    </collision> -->
    <collision>
      <origin xyz="0 0 0" rpy="0 1.57 0" />
      <geometry>
        <cylinder radius="0.0447" length="0.1" />
      </geometry>
    </collision>
  </link>

  <joint name="right_shoulder_roll_joint" type="revolute">
    <origin  xyz="0 -0.0695 0" rpy="-0.17453 0 0" />
    <parent link="right_shoulder_pitch_link" />
    <child link="right_shoulder_roll_link" />
    <axis xyz="1 0 0" />
    <limit lower="-2.3" upper="0.12" effort="100" velocity="14" />
  </joint>

  <link name="right_shoulder_yaw_link">
    <inertial>
      <origin xyz="-0.00081059 0.00072671 -0.10574900" rpy="0 0 0"/>
      <mass value="1.12432180"/>
      <inertia
        ixx="0.00382779" 
        ixy="0.00000298" 
        ixz="0.00002519" 
        iyy="0.00391283" 
        iyz="0.00002786" 
        izz="0.00072349"/>
    </inertial>
    <visual>
      <origin xyz="0 0 0" rpy="0 0 0" />
      <geometry>
        <mesh filename="../meshes/right_shoulder_yaw_link.STL" />
      </geometry>
      <material name="a">
        <color rgba="0.752941176470588 0.752941176470588 0.752941176470588 1" />
      </material>
    </visual>
    <!-- <collision>
      <origin xyz="0 0 0" rpy="0 0 0" />
      <geometry>
        <mesh filename="../meshes/right_shoulder_yaw_link.STL" />
      </geometry>
    </collision> -->
    <collision>
      <origin xyz="0 0 0" rpy="0 0 0" />
      <geometry>
        <cylinder radius="0.03968" length="0.14" />
      </geometry>
    </collision>
  </link>

  <joint name="right_shoulder_yaw_joint" type="revolute">
    <origin  xyz="0 0 -0.13" rpy="0 0 0" />
    <parent link="right_shoulder_roll_link" />
    <child link="right_shoulder_yaw_link" />
    <axis xyz="0 0 1" />
    <limit lower="-1.9" upper="1.9" effort="100" velocity="14" />
  </joint>

  <link name="right_elbow_link">
    <inertial>
      <origin xyz="-0.00139017 0.00149140 -0.06686502" rpy="0 0 0"/>
      <mass value="0.59309105"/>
      <inertia
        ixx="0.00083733" 
        ixy="-0.00000200" 
        ixz="-0.00004328" 
        iyy="0.00081017" 
        iyz="0.00003383" 
        izz="0.00047737"/>
    </inertial>
    <visual>
      <origin xyz="0 0 0" rpy="0 0 0" />
      <geometry>
        <mesh filename="../meshes/right_elbow_link.STL" />
      </geometry>
      <material name="a">
        <color rgba="0.752941176470588 0.752941176470588 0.752941176470588 1" />
      </material>
    </visual>
    <!-- <collision>
      <origin xyz="0 0 0" rpy="0 0 0" />
      <geometry>
        <mesh filename="../meshes/right_elbow_link.STL" />
      </geometry>
    </collision> -->
    <collision>
      <origin xyz="0 0 0" rpy="1.57 0 0" />
      <geometry>
        <cylinder radius="0.043" length="0.079" />
      </geometry>
    </collision>
  </link>

  <joint name="right_elbow_joint" type="revolute">
    <origin xyz="0 0 -0.14" rpy="0 -1.57 0" />
    <parent link="right_shoulder_yaw_link" />
    <child link="right_elbow_link" />
    <axis xyz="0 1 0" />
    <limit lower="-0.83" upper="1.57" effort="100" velocity="14" />
  </joint>

  <link name="right_wrist_yaw_link">
    <inertial>
      <origin xyz="-0.00020795 0.00477305 -0.06596393" rpy="0 0 0"/>
      <mass value="0.36396026"/>
      <inertia
        ixx="0.00013304" 
        ixy="0.00000160" 
        ixz="-0.00000051" 
        iyy="0.00019202" 
        iyz="-0.00000053" 
        izz="0.00013151"/>
    </inertial>
    <visual>
      <origin xyz="0 0 0" rpy="0 0 0" />
      <geometry>
        <mesh filename="../meshes/right_wrist_yaw_link.STL" />
      </geometry>
      <material name="a">
        <color rgba="0.752941176470588 0.752941176470588 0.752941176470588 1" />
      </material>
    </visual>
    <!-- <collision>
      <origin xyz="0 0 0" rpy="0 0 0" />
      <geometry>
        <mesh filename="../meshes/right_wrist_yaw_link.STL" />
      </geometry>
    </collision> -->
    <collision>
      <origin xyz="0 0 0.01" rpy="0 0 0" />
      <geometry>
        <cylinder radius="0.035" length="0.07" />
      </geometry>
    </collision>
  </link>

  <joint name="right_wrist_yaw_joint" type="fixed">
    <origin xyz="0 0 -0.0955" rpy="0 0 0" />
    <parent link="right_elbow_link" />
    <child link="right_wrist_yaw_link" />
    <axis xyz="0 0 1" />
    <limit lower="-2.3" upper="2.3" effort="17" velocity="87" />
  </joint>

  <link name="right_wrist_pitch_link">
    <inertial>
      <origin xyz="-0.00480940 0.00036052 -0.05845800" rpy="0 0 0"/>
      <mass value="0.47109816"/>
      <inertia
        ixx="0.00038770" 
        ixy="-0.00000034" 
        ixz="0.00001379" 
        iyy="0.00031500" 
        iyz="0.00001253" 
        izz="0.00023403"/>
    </inertial>
    <visual>
      <origin xyz="0 0 0" rpy="0 0 0" />
      <geometry>
        <mesh filename="../meshes/right_wrist_pitch_link.STL" />
      </geometry>
      <material name="a">
        <color rgba="0.752941176470588 0.752941176470588 0.752941176470588 1" />
      </material>
    </visual>
    <!-- <collision>
      <origin xyz="0 0 0" rpy="0 0 0" />
      <geometry>
        <mesh filename="../meshes/right_wrist_pitch_link.STL" />
      </geometry>
    </collision> -->
    <collision>
      <origin xyz="0 0 0.0" rpy="1.57 0 0" />
      <geometry>
        <cylinder radius="0.032" length="0.064" />
      </geometry>
    </collision>
  </link>

  <joint name="right_wrist_pitch_joint" type="fixed">
    <origin xyz="0 0 -0.0645" rpy="0 0 0" />
    <parent link="right_wrist_yaw_link" />
    <child link="right_wrist_pitch_link" />
    <axis xyz="0 1 0" />
    <limit lower="-1.2" upper="1.2" effort="17" velocity="87" />
  </joint>

  <link name="right_wrist_roll_link">
    <inertial>
      <origin xyz="0.01916043 -0.00000117 -0.02394803" rpy="0 0 0" />
      <mass value="0.0380932" />
      <inertia
        ixx="0.00001604"
        ixy="0.00000000"
        ixz="0.00000518"
        iyy="0.00002008"
        iyz="0.00000000"
        izz="0.00000997" />
    </inertial>
    <visual>
      <origin xyz="0 0 0" rpy="0 0 0" />
      <geometry>
        <mesh filename="../meshes/right_wrist_roll_link.STL" />
      </geometry>
      <material name="a">
        <color rgba="0.752941176470588 0.752941176470588 0.752941176470588 1" />
      </material>


    </visual>

    <visual>
      <origin xyz="0.0 0.0 -0.05" rpy="0 0 0" />
      <geometry>
        <cylinder radius="0.038" length="0.15" />
      </geometry>
    </visual>
    <collision>
      <origin xyz="0.0 0.0 -0.05" rpy="0 0 0" />
      <geometry>
        <cylinder radius="0.038" length="0.15" />
      </geometry>
    </collision>

    <!-- <collision>
      <origin xyz="0 0 0" rpy="0 0 0" />
      <geometry>
        <mesh filename="../meshes/right_wrist_roll_link.STL" />
      </geometry>
    </collision> -->
    <collision>
      <origin xyz="0 0 0" rpy="0 1.57 0" />
      <geometry>
        <cylinder radius="0.035" length="0.054" />
      </geometry>
    </collision>

  </link>

  <joint name="right_wrist_roll_joint" type="fixed">
    <origin xyz="0 0 -0.068" rpy="0 0 0" />
    <parent link="right_wrist_pitch_link" />
    <child link="right_wrist_roll_link" />
    <axis xyz="1 0 0" />
    <limit lower="-1.2" upper="1.2" effort="17" velocity="87" />
  </joint>
</robot>
